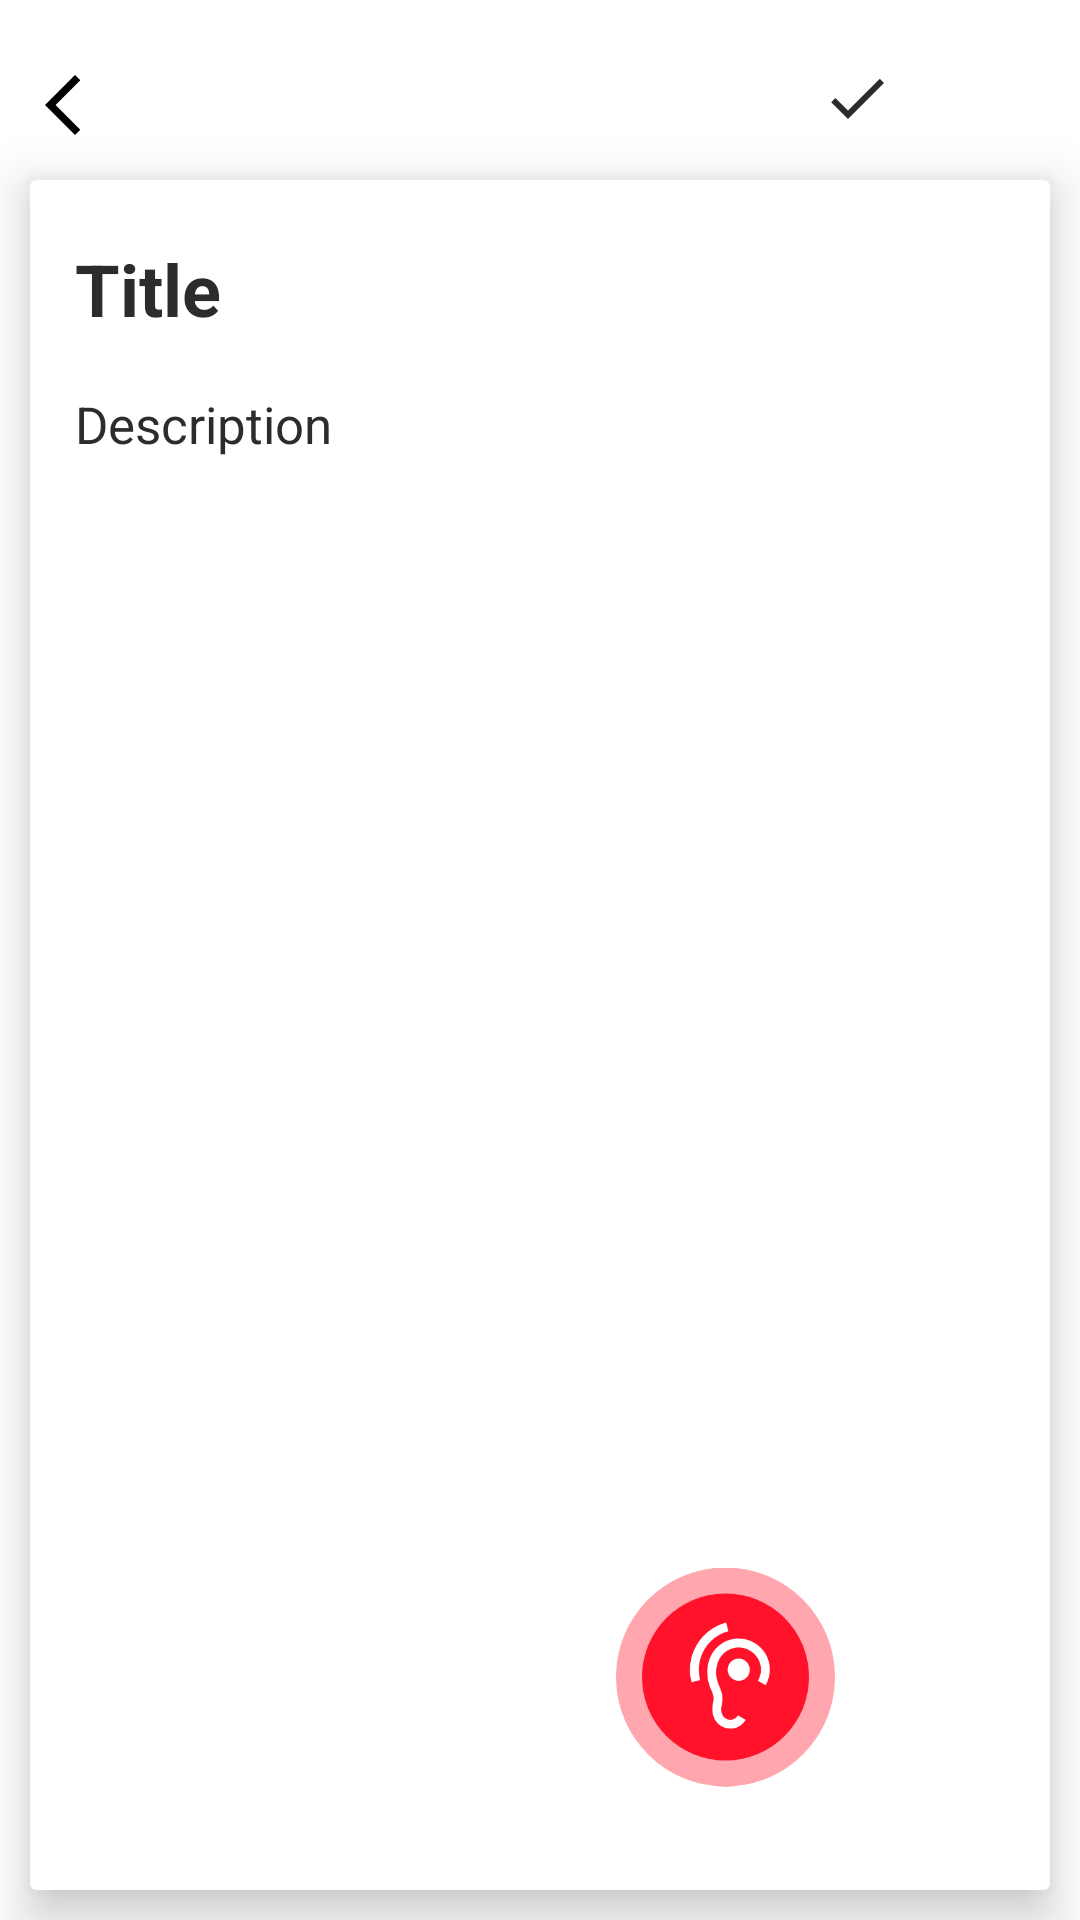

Icon bounding boxes for this 1080 × 1920 phone screenshot, format [x1, y1, x2, y2]:
back: [45, 75, 80, 135]
done: [831, 79, 884, 119]
ttsimg: [616, 1568, 835, 1787]
